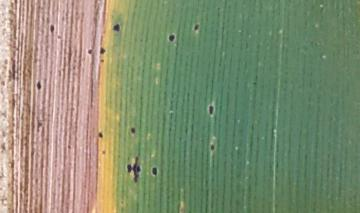tarspot: (126, 155, 142, 183), (206, 100, 217, 118), (34, 78, 43, 91), (166, 33, 177, 43), (191, 22, 200, 34), (112, 22, 121, 33), (129, 126, 138, 135), (207, 143, 216, 152), (48, 23, 56, 33), (99, 46, 106, 56), (86, 46, 93, 55), (152, 166, 157, 176), (100, 149, 106, 156), (120, 199, 125, 207), (97, 132, 103, 138), (100, 60, 105, 64)
